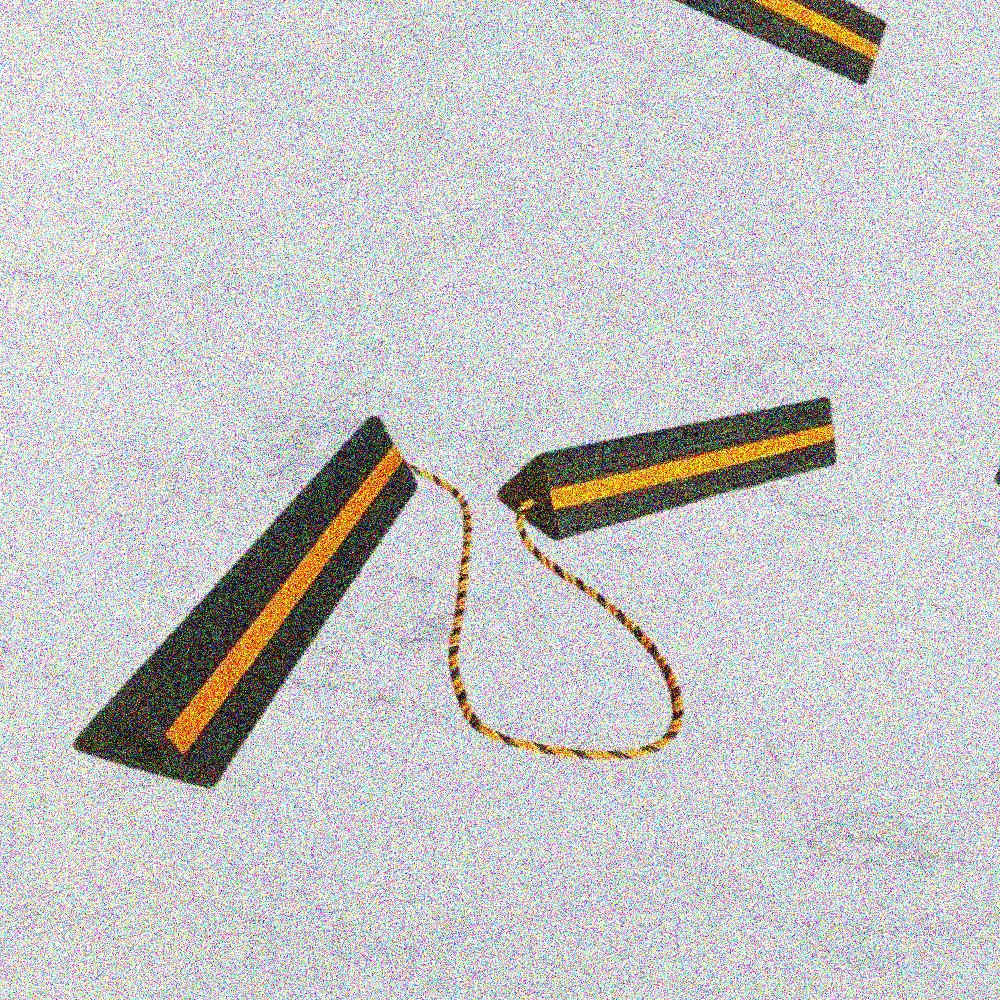chock: (61, 378, 425, 815), (493, 357, 846, 572), (549, 0, 901, 90)
